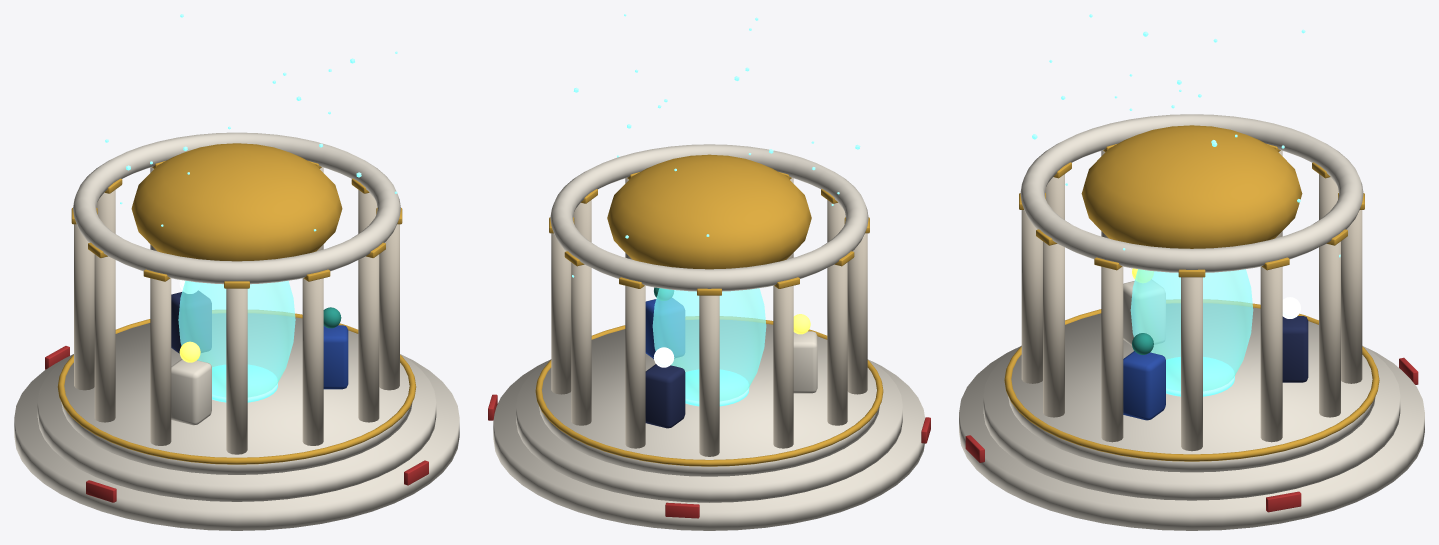
The model's file is primordial.glb.
3 views of the same model, side by side, from view 1: azimuth 30°, elevation 25°; view 2: azimuth 150°, elevation 25°; view 3: azimuth 270°, elevation 25° (orthographic). The views are drawn at different scales.
Parts seen in each view (by area): view 1: marble, marble2, gold, ether_veil, white, navy, ether, lapis, team; view 2: marble, gold, marble2, ether_veil, navy, lapis, ether, white, team; view 3: marble, gold, marble2, ether_veil, lapis, white, ether, navy, team.
Part boxes in pixels (<box>): marble: <box>14,132,459,530</box>; marble2: <box>74,167,399,454</box>; gold: <box>57,143,416,464</box>; ether_veil: <box>178,280,295,397</box>; white: <box>171,359,211,425</box>; navy: <box>171,290,211,353</box>; ether: <box>105,14,397,402</box>; lapis: <box>323,325,348,389</box>; team: <box>45,346,428,502</box>; marble: <box>493,144,924,530</box>; gold: <box>535,154,883,466</box>; marble2: <box>551,178,867,456</box>; ether_veil: <box>652,288,766,401</box>; navy: <box>645,364,685,428</box>; lapis: <box>645,298,684,358</box>; ether: <box>572,14,860,406</box>; white: <box>793,331,817,393</box>; team: <box>488,394,930,518</box>; marble: <box>959,114,1424,530</box>; gold: <box>1004,125,1379,461</box>; marble2: <box>1021,150,1362,451</box>; ether_veil: <box>1130,269,1253,391</box>; lapis: <box>1123,351,1165,420</box>; white: <box>1123,279,1165,345</box>; ether: <box>1032,14,1340,396</box>; navy: <box>1282,316,1308,382</box>; team: <box>965,357,1418,512</box>.
Size of the model in its own units: 3.8 by 3.77 by 3.8.
